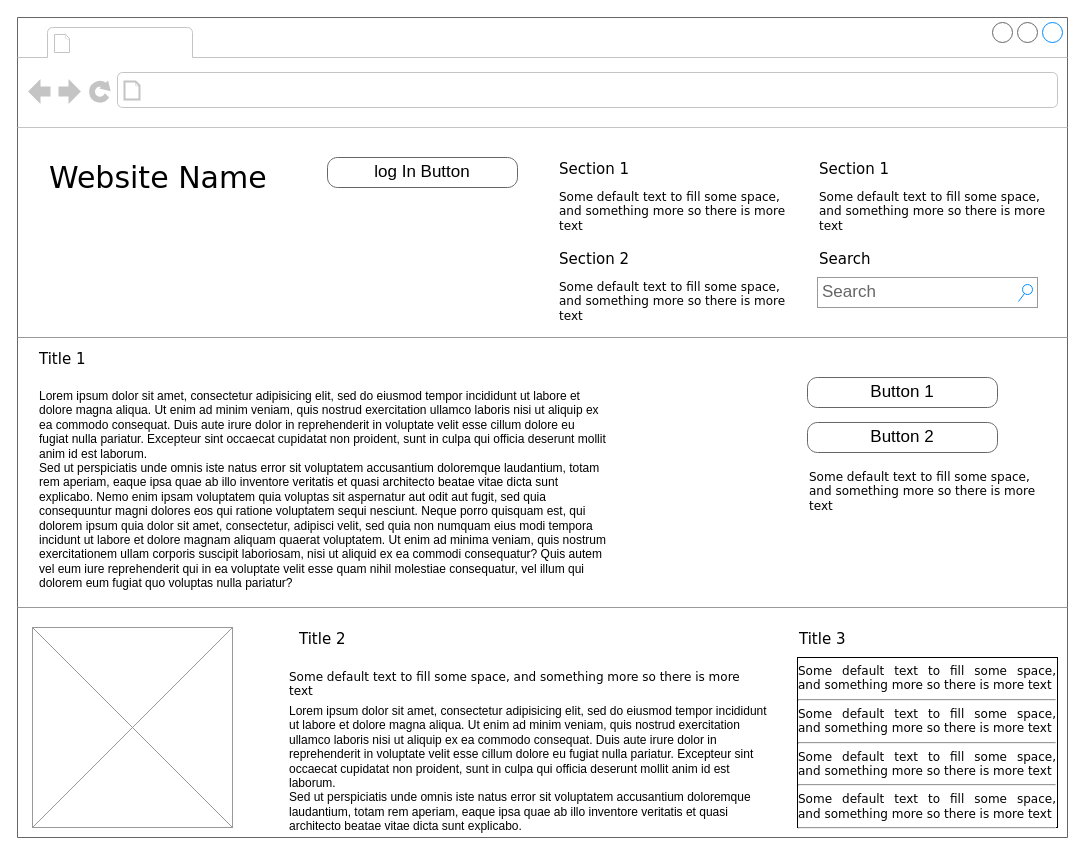
Some shapes in this 1085 by 855 pixel diagram are drawn without their labels. Here are the shapes that lost their labels. From the top down, the centre of each, then its label:
At pixel 132 42: "Page 1".
At pixel 272 90: "https://www.default.com".
